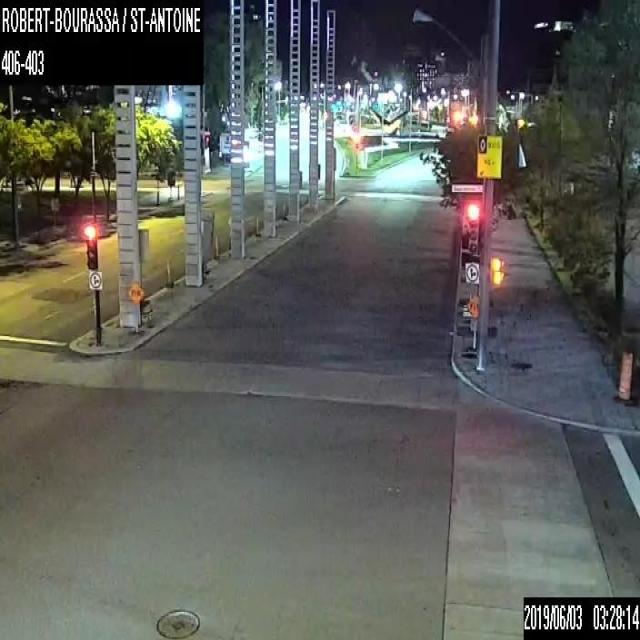construction: (138, 227, 152, 320), (461, 293, 479, 361), (615, 351, 636, 404), (200, 208, 215, 278), (126, 278, 144, 336)
